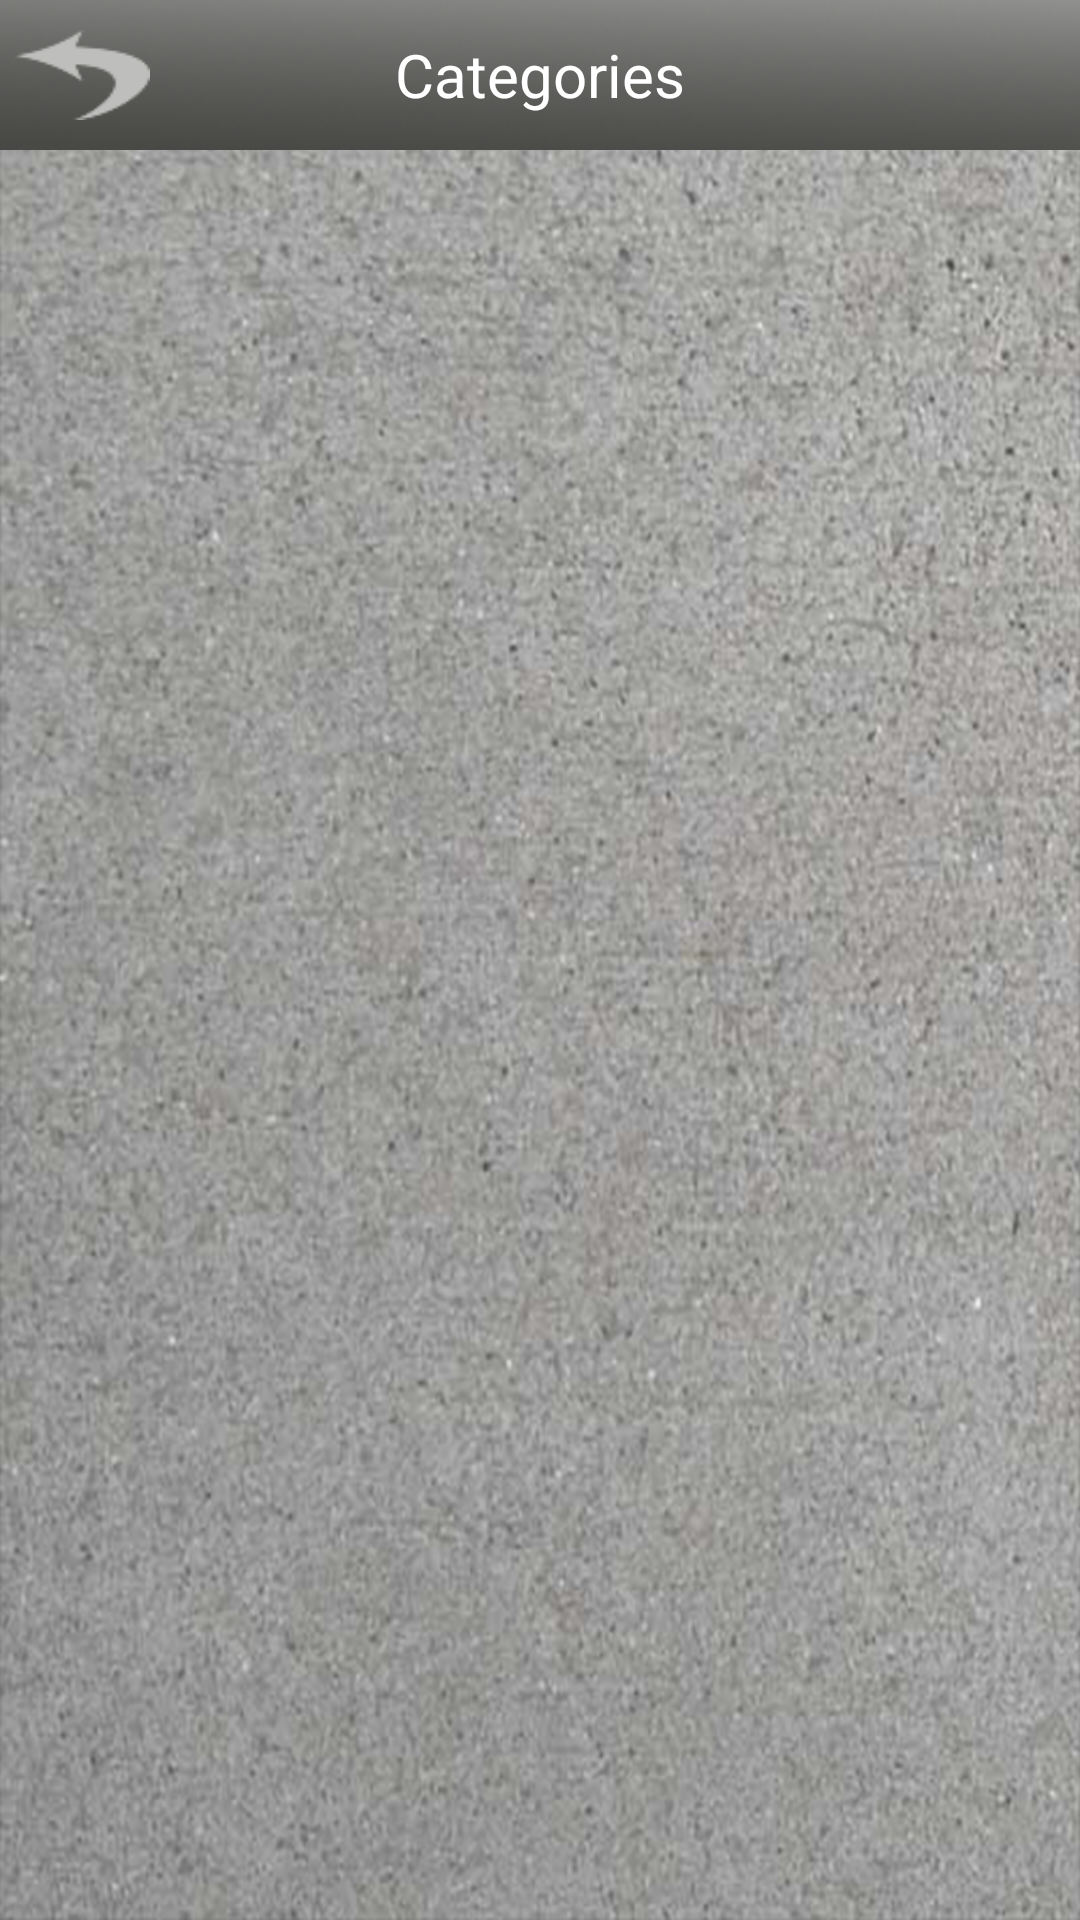

Icon click points for this 1080x1920 phone screenshot, format (x=x, y=y):
backbutton: (x=82, y=75)
